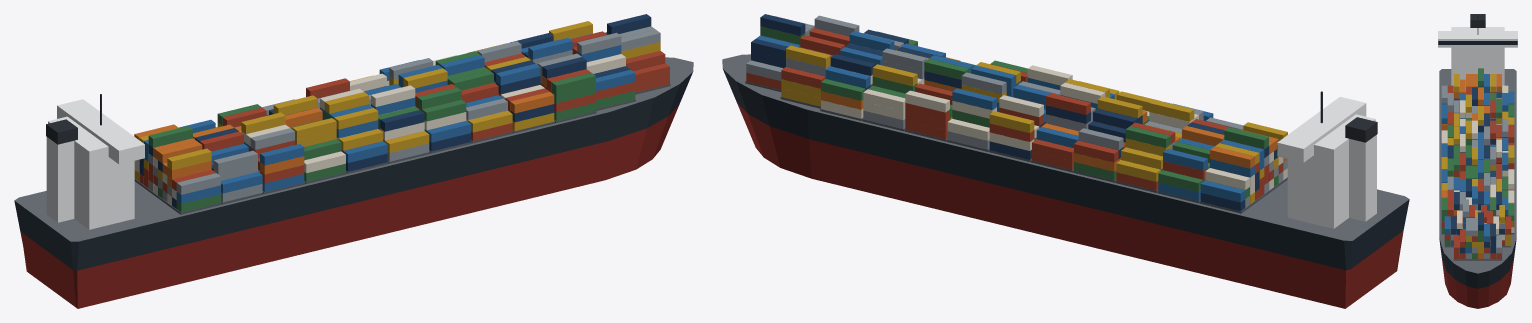
The model's file is buque.glb.
The picture shows the model from 3 angles, left to right: view 1: azimuth 30°, elevation 25°; view 2: azimuth 150°, elevation 25°; view 3: azimuth 270°, elevation 25°; orthographic projection. The views are drawn at different scales.
Parts seen in each view (by area): view 1: buque; view 2: buque; view 3: buque.
Boxes of the visible parts, x1,y1,x2,y2 form: buque: (14, 14, 693, 308); buque: (722, 14, 1409, 308); buque: (1438, 14, 1517, 308).
Bounding box in the file's own units: 200 × 54 × 33.
